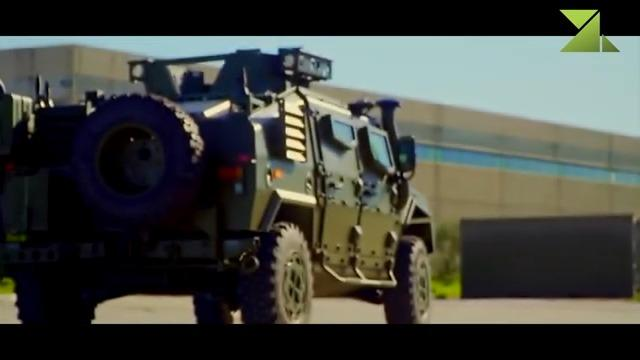MIL_HMMWV: (0, 88, 438, 323)
